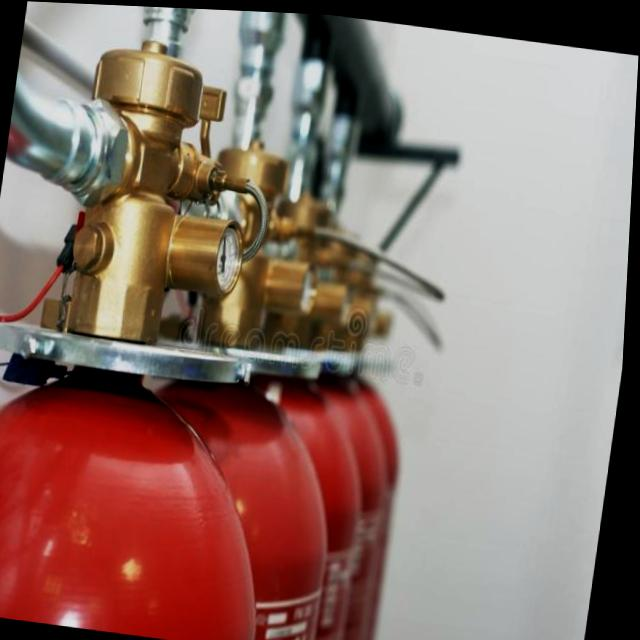FireExtinguisher: (0, 26, 342, 640), (53, 103, 392, 640)
